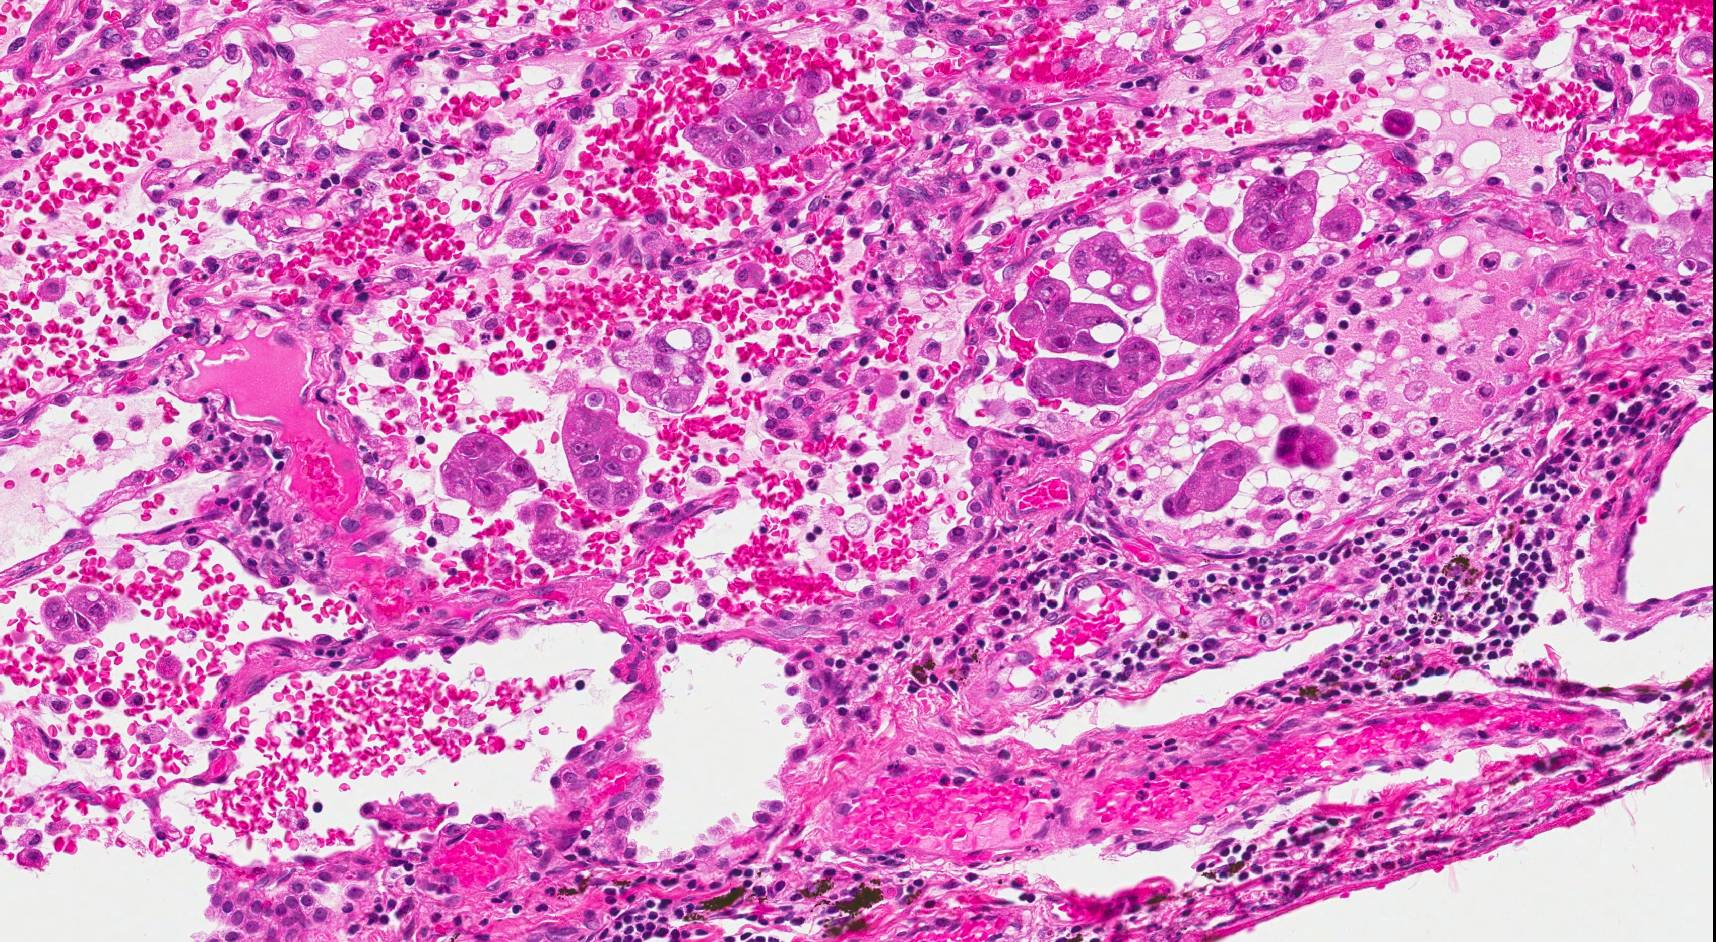stas: (682, 72, 830, 172), (560, 384, 644, 509), (609, 321, 712, 415), (1025, 337, 1162, 407), (1007, 279, 1130, 356), (1158, 234, 1242, 346), (439, 432, 539, 510), (1164, 439, 1261, 517), (1068, 229, 1162, 307), (1233, 169, 1318, 252), (39, 584, 123, 646), (1273, 422, 1338, 470), (1647, 74, 1702, 118), (1319, 198, 1365, 245), (1279, 372, 1322, 414)
